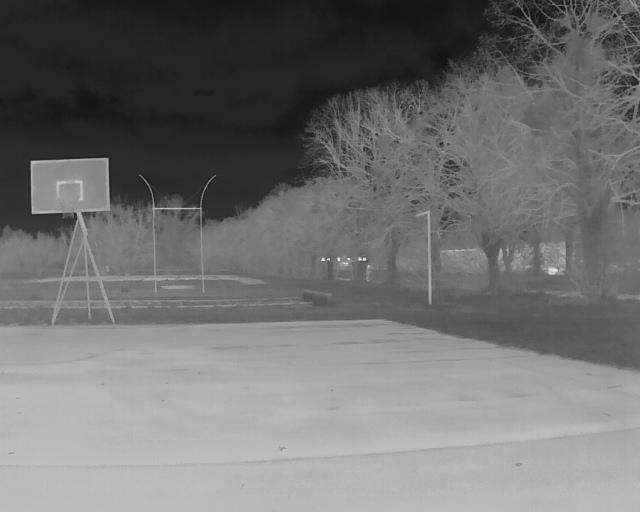drone: (316, 246, 373, 286)
